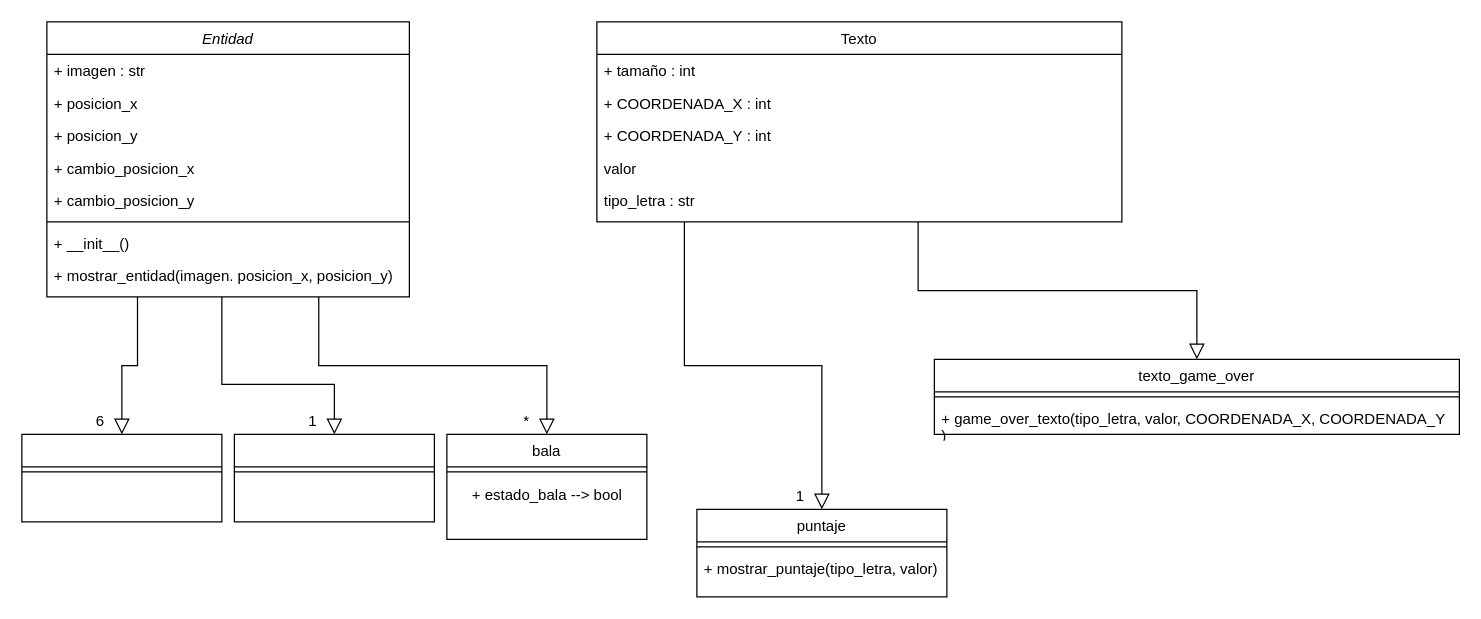
The diagram is 1481 pixels wide and 619 high, and some of its shapes have lost their labels. Here are the shapes that lost their labels. From the top down, the centre of each, then its label:
At (121,477): "enemigo".
At (333,477): "jugador".
